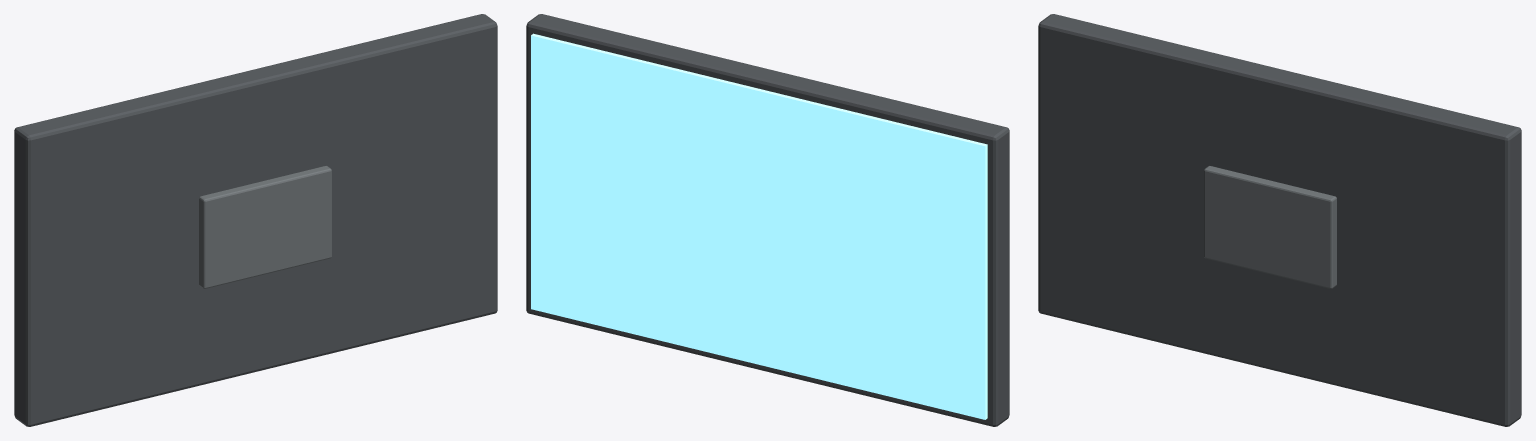
File: info_display.glb
The picture shows the model from 3 angles, left to right: view 1: azimuth 30°, elevation 25°; view 2: azimuth 150°, elevation 25°; view 3: azimuth 330°, elevation 25°; orthographic projection.
Visible parts, largest first — view 1: info_display; view 2: info_display; view 3: info_display.
Boxes of the visible parts, bbox=[...] form: info_display: bbox=[14, 14, 497, 426]; info_display: bbox=[526, 14, 1009, 426]; info_display: bbox=[1038, 14, 1521, 426].
Bounding box in the file's own units: 1.1 × 0.65 × 0.09.
